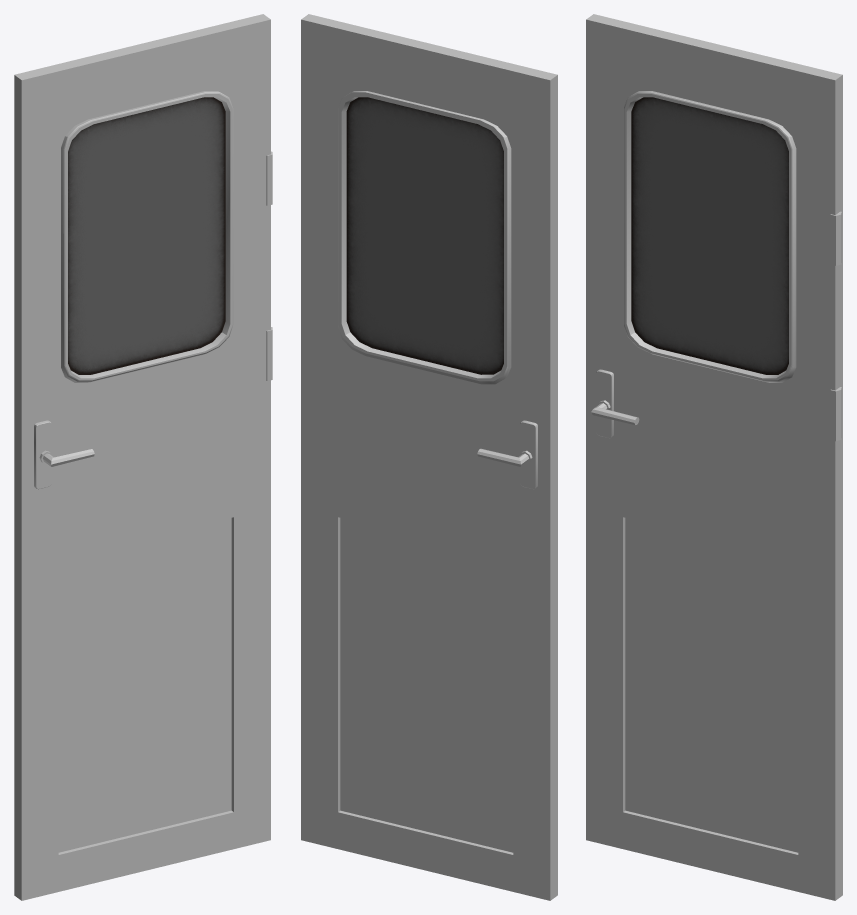
The model's file is SM_Door.fbx.
3 views of the same model, side by side, from view 1: azimuth 30°, elevation 25°; view 2: azimuth 150°, elevation 25°; view 3: azimuth 330°, elevation 25° (orthographic).
Parts seen in each view (by area): view 1: SM_Door; view 2: SM_Door; view 3: SM_Door.
Part boxes in pixels (box(x1,y1,x2,y2)): SM_Door: box(14, 14, 272, 900); SM_Door: box(301, 14, 557, 900); SM_Door: box(586, 14, 842, 900).
Bounding box in the file's own units: 0.6302 × 0.139 × 1.95.
